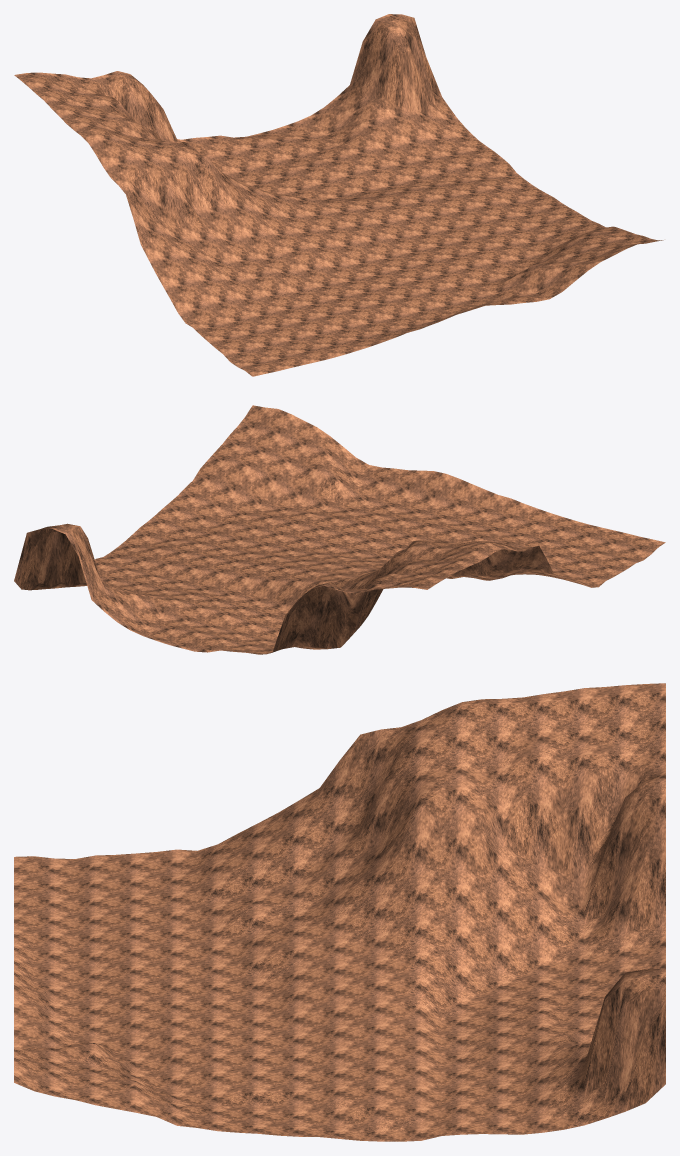
The model's file is terrain_01_22.dae.
3 renders of one model, top to bottom at view 1: azimuth 30°, elevation 25°; view 2: azimuth 150°, elevation 25°; view 3: azimuth 270°, elevation 25°, orthographic. The views are drawn at different scales.
Parts seen in each view (by area): view 1: terrain_01_22-node; view 2: terrain_01_22-node; view 3: terrain_01_22-node.
Part boxes in pixels (box(x1,y1,x2,y2)): terrain_01_22-node: box(14, 14, 663, 376); terrain_01_22-node: box(14, 405, 665, 654); terrain_01_22-node: box(14, 683, 665, 1141).
Bounding box in the file's own units: 128 × 128 × 39.64.
Materials: 1 (1 with a texture image).
